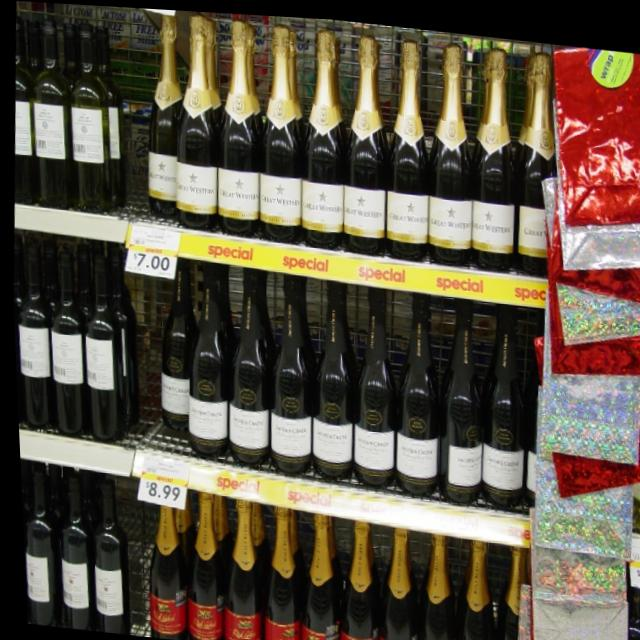q202: (131, 488, 191, 640), (288, 504, 347, 640), (211, 492, 262, 640), (327, 514, 383, 640), (403, 523, 462, 640), (249, 505, 300, 640), (366, 522, 422, 640), (178, 490, 222, 640), (444, 533, 500, 640)
